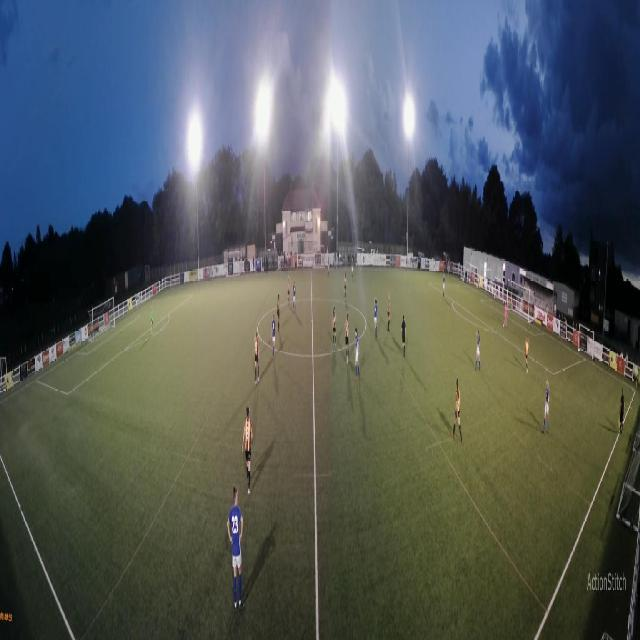ball: (503, 323, 505, 328)
player: (227, 485, 246, 613), (242, 406, 254, 496), (451, 378, 462, 442), (541, 380, 549, 435), (254, 332, 260, 386), (354, 328, 360, 380), (270, 313, 276, 360), (345, 314, 350, 366), (475, 330, 481, 371), (401, 315, 406, 357), (332, 306, 337, 348), (525, 336, 530, 374), (374, 299, 378, 340), (387, 293, 391, 332), (277, 294, 281, 333), (292, 280, 296, 314), (150, 306, 154, 335), (504, 303, 508, 329), (287, 276, 290, 306), (344, 272, 347, 301), (443, 273, 446, 300), (352, 258, 354, 280), (328, 257, 330, 278)
